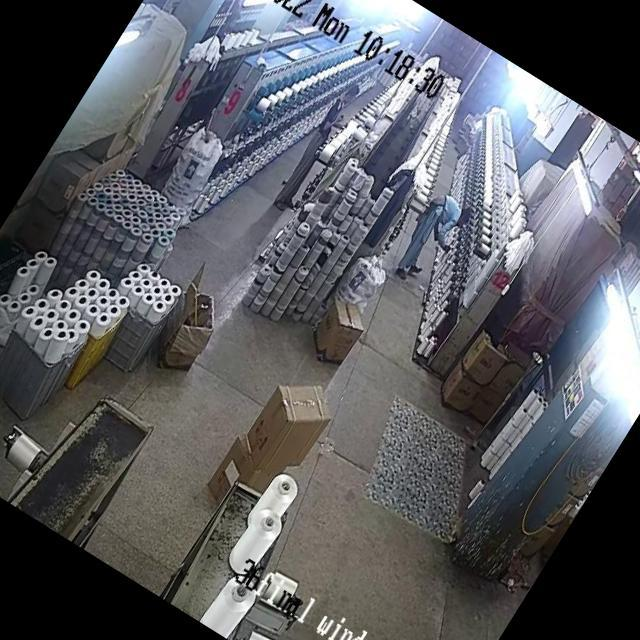person: (270, 86, 358, 216), (392, 186, 479, 292)
